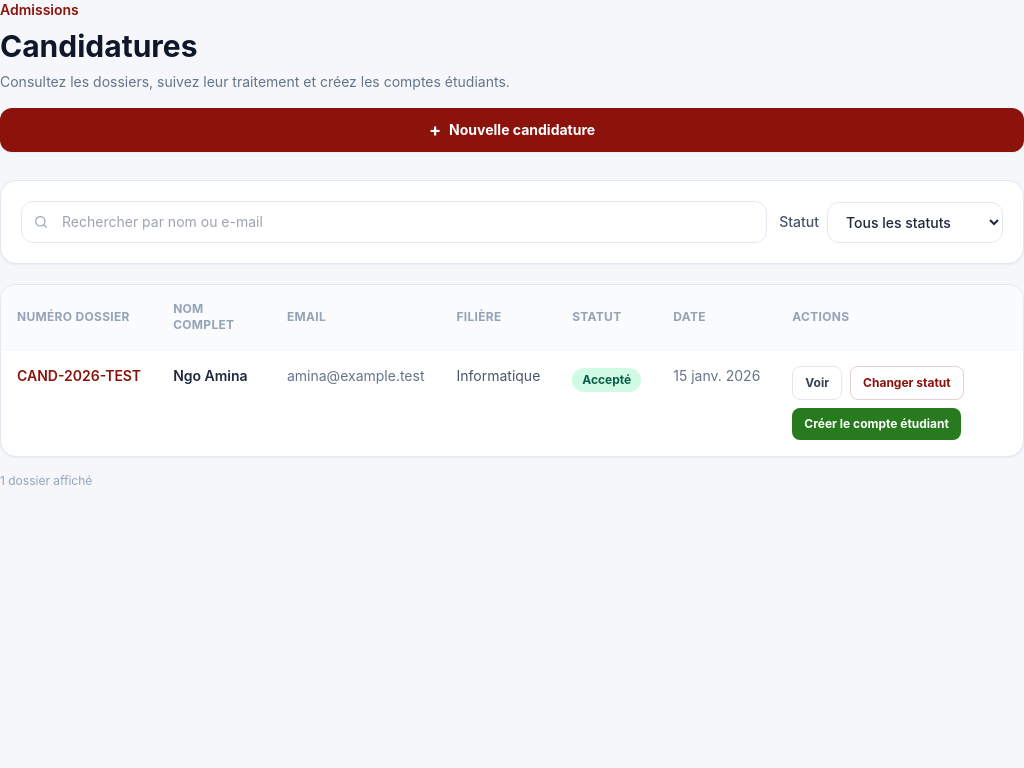
Test: gestion des candidatures côté personnel › affiche le message API si la mise à jour du statut échoue
Click the button "Changer statut".
click(907, 383)  # box left=850, top=366, right=964, bottom=400
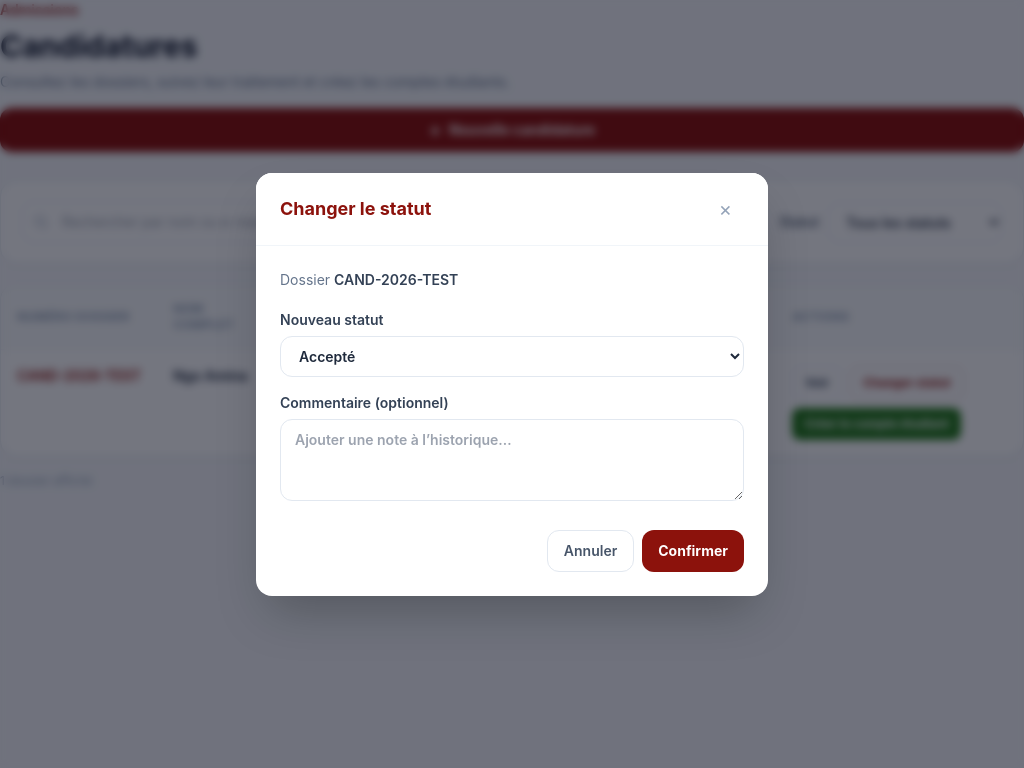
Select "Rejeté" in the dropdown labelled "Nouveau statut" at (512, 356), box left=280, top=336, right=744, bottom=376
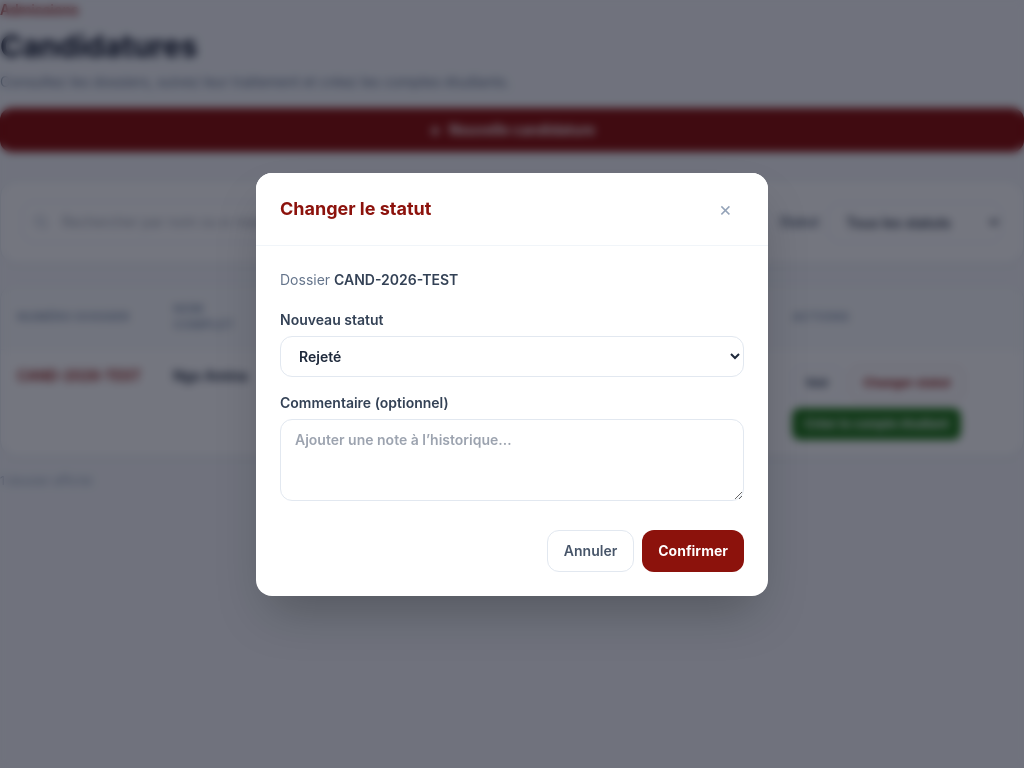
Click the button "Confirmer".
click(693, 550)  # box left=642, top=530, right=744, bottom=572
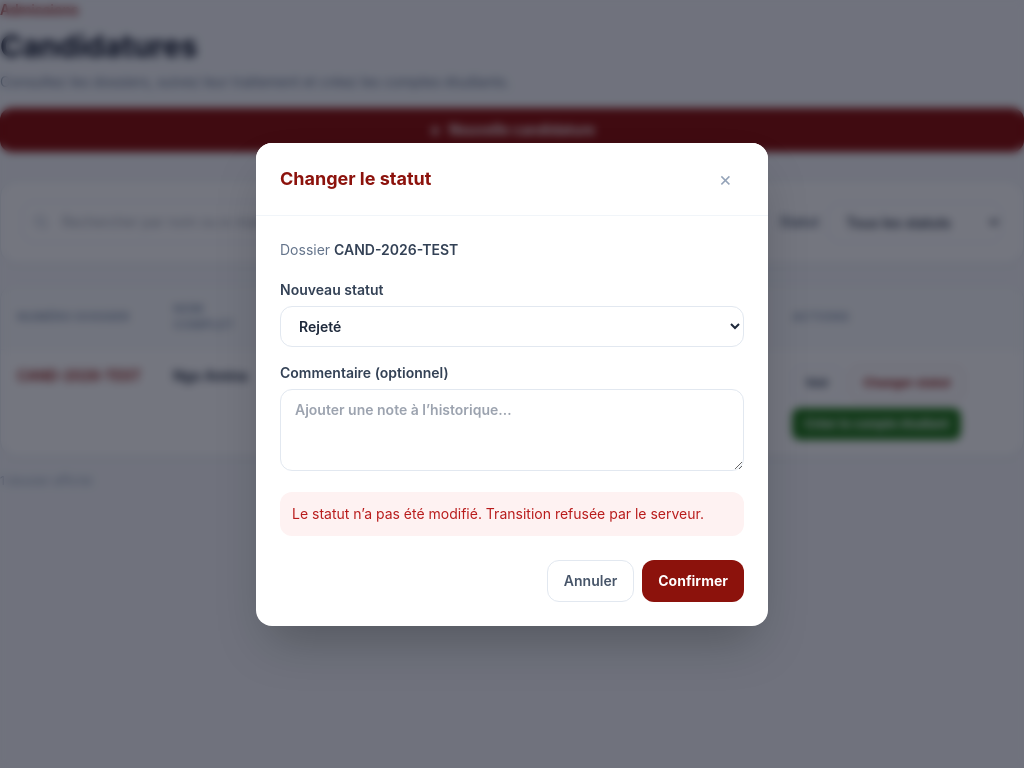
expect the message reads "Le statut n’a pas été modifié. Transition refusée par le serveur.": met, box left=292, top=504, right=704, bottom=522
